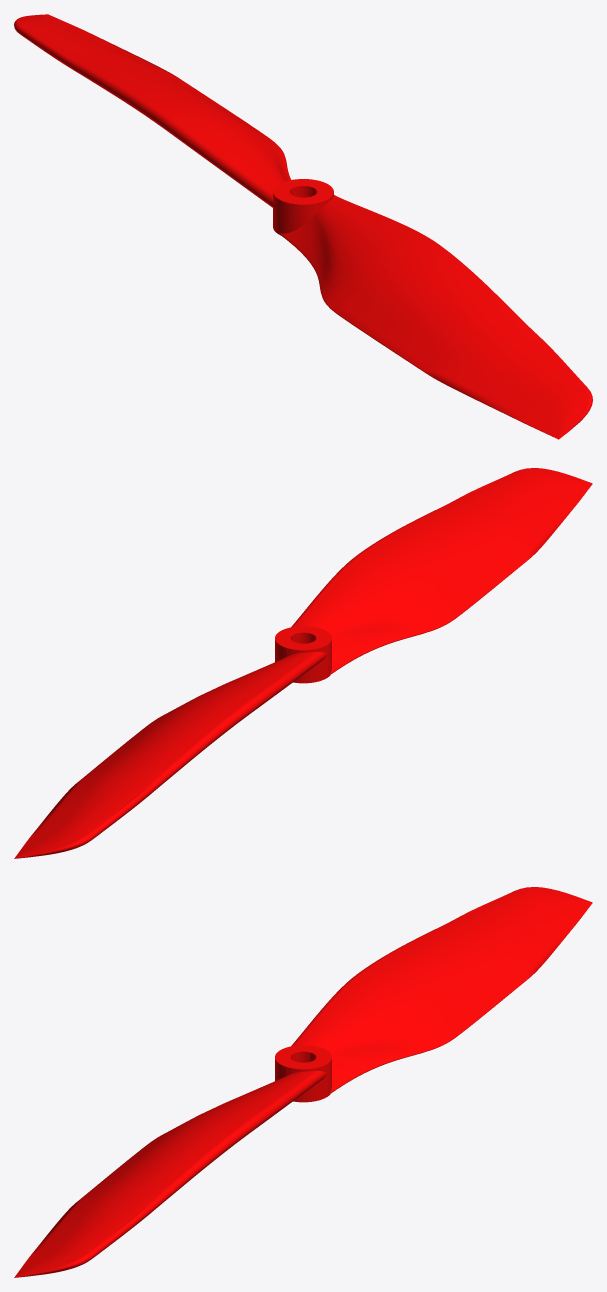
Rendered from propeller_ccw.dae.
3 renders of one model, top to bottom at view 1: azimuth 30°, elevation 25°; view 2: azimuth 150°, elevation 25°; view 3: azimuth 330°, elevation 25°, orthographic. The views are drawn at different scales.
Visible parts, largest first — view 1: Body1, Body2; view 2: Body1, Body2; view 3: Body2, Body1.
Boxes of the visible parts, <box> form: Body1: <box>273,179,592,439</box>; Body2: <box>14,14,333,235</box>; Body1: <box>275,468,592,683</box>; Body2: <box>14,626,331,858</box>; Body2: <box>275,887,592,1102</box>; Body1: <box>14,1045,331,1277</box>.
Size of the model in its own units: 26.87 by 203 by 9.01.
